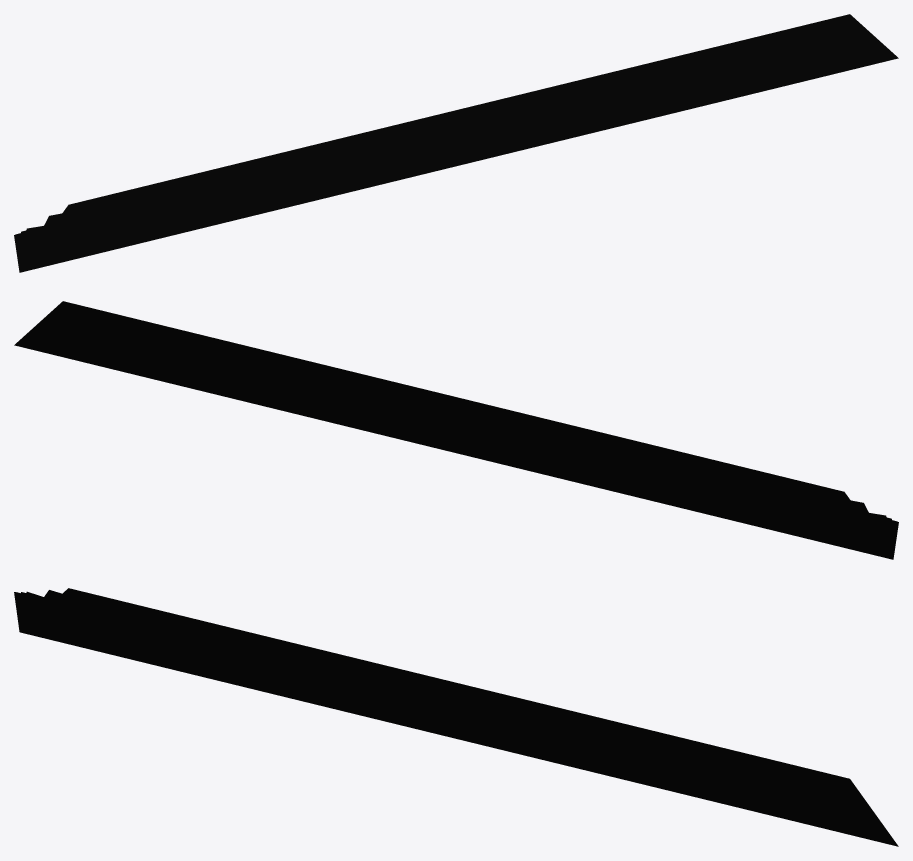
Rendered from 1093item564.gltf.
3 views of the same model, one above another, from view 1: azimuth 30°, elevation 25°; view 2: azimuth 150°, elevation 25°; view 3: azimuth 330°, elevation 25° (orthographic).
Parts seen in each view (by area): view 1: 1093item564; view 2: 1093item564; view 3: 1093item564.
Boxes of the visible parts, <box> form: 1093item564: <box>14,14,898,272</box>; 1093item564: <box>14,301,898,559</box>; 1093item564: <box>14,588,898,846</box>.
Bounding box in the file's own units: 0.781 × 0.0474 × 0.
1 material, 1 textured.
